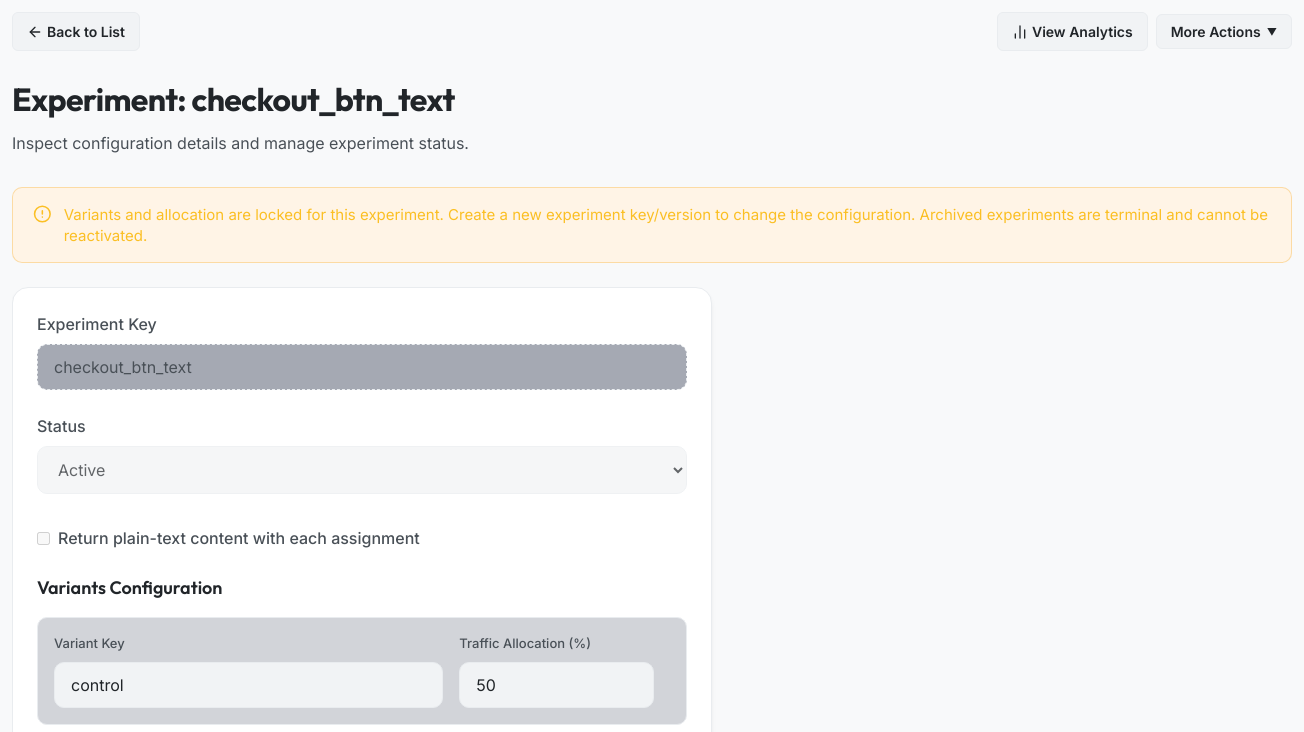
Test: Experiment Detail / Edit Page › should display Deactivate button when experiment is active
The image size is (1304, 732).
Expected: the heading "Experiment: checkout_btn_text" is shown, [12, 79, 455, 119]
Click dropdown toggle
Click the button with test id "actions-dropdown-toggle". click: point(1224, 32)
box: [1156, 14, 1292, 49]
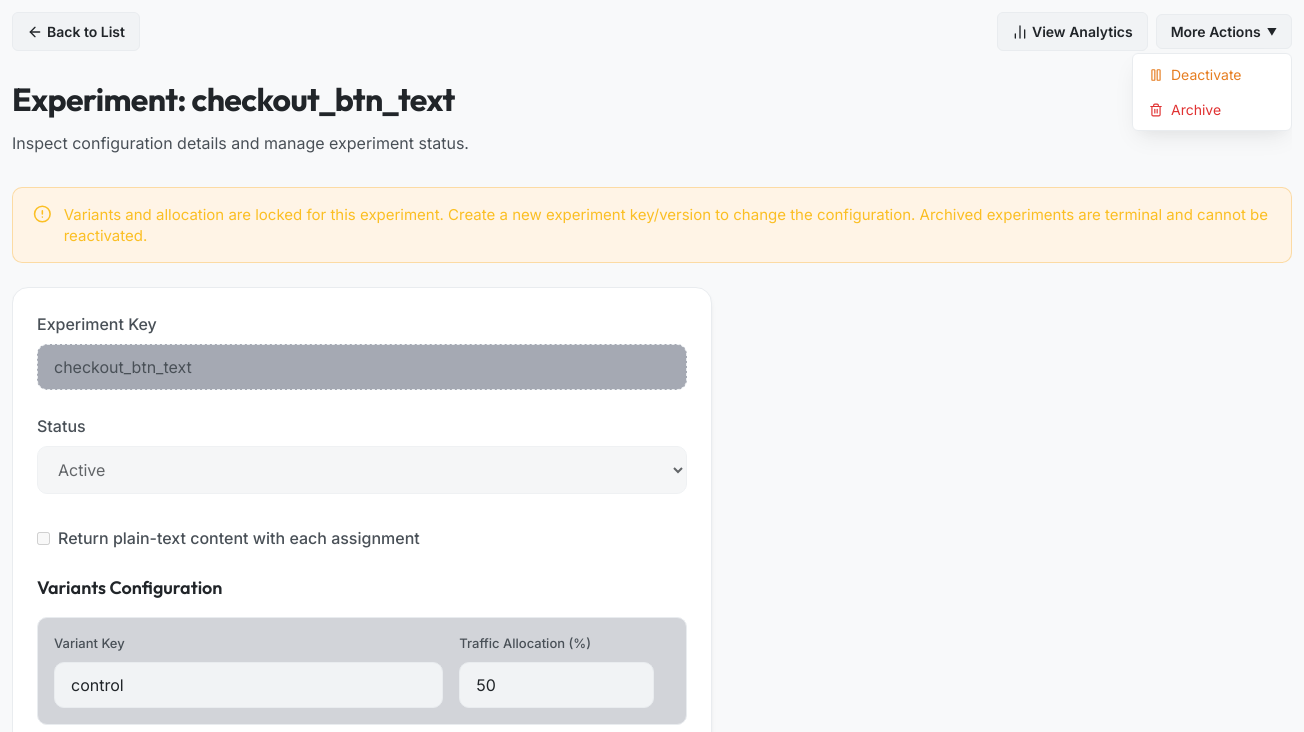
Now the button with test id "deactivate-btn" is shown, box [1137, 58, 1287, 91]
